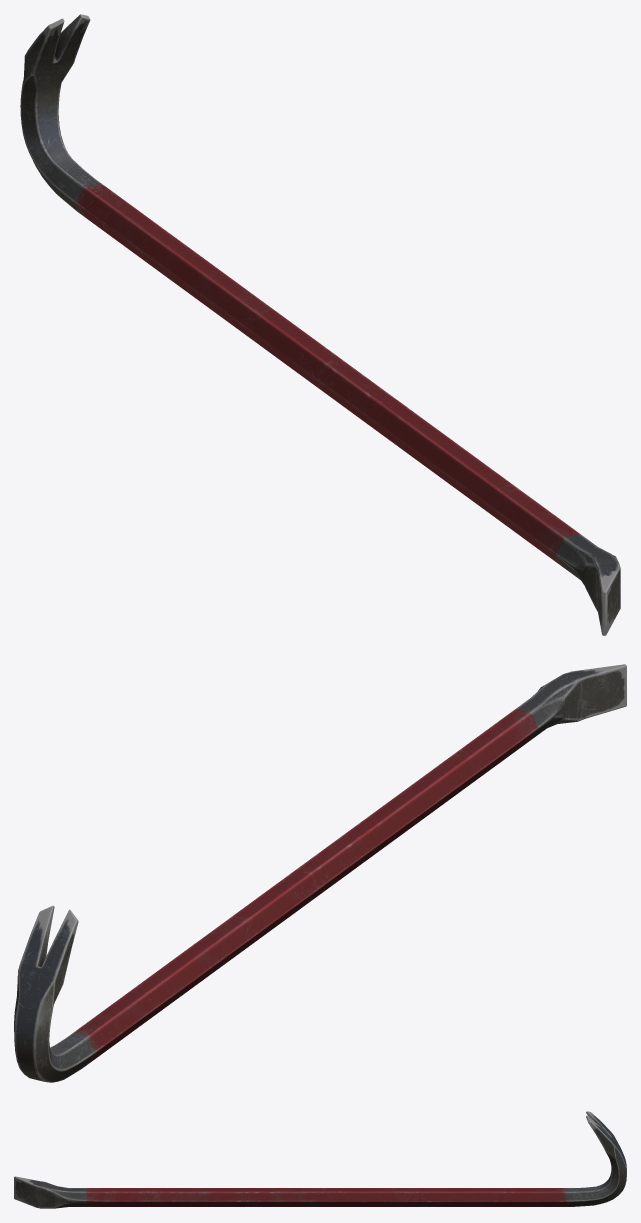
File: Crowbar_Outbreak.glb
3 views of the same model, one above another, from view 1: azimuth 30°, elevation 25°; view 2: azimuth 150°, elevation 25°; view 3: azimuth 270°, elevation 25° (orthographic). The views are drawn at different scales.
Visible parts, largest first — view 1: Crowbar_Outbreak_LOD0; view 2: Crowbar_Outbreak_LOD0; view 3: Crowbar_Outbreak_LOD0.
Boxes of the visible parts, x1,y1,x2,y2 form: Crowbar_Outbreak_LOD0: (20,14,620,635); Crowbar_Outbreak_LOD0: (14,664,626,1082); Crowbar_Outbreak_LOD0: (14,1111,626,1208).
Size of the model in its own units: 0.000542 by 0.0016 by 0.00928.
Materials: 1 (1 with a texture image).
